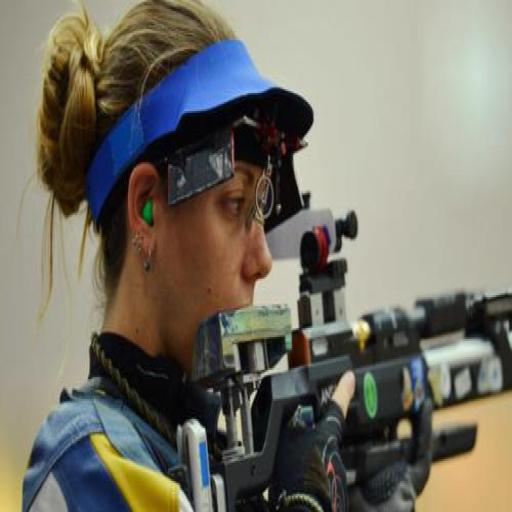shooting: (18, 18, 482, 512)
